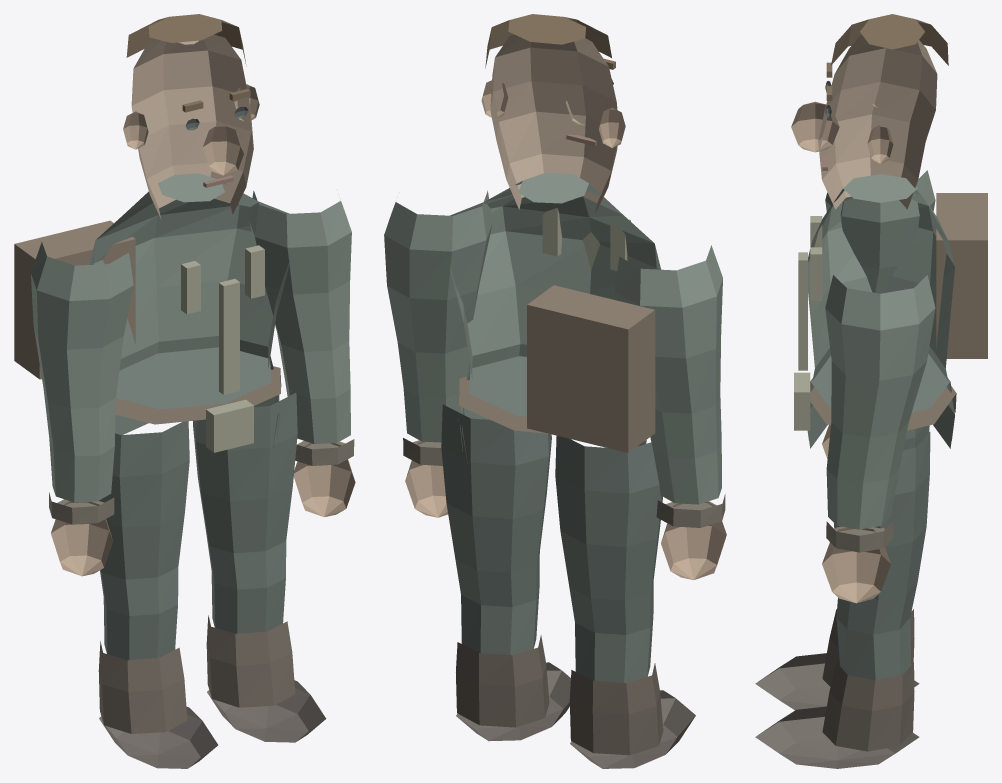
The model's file is worker_1000_2.glb.
The picture shows the model from 3 angles, left to right: view 1: azimuth 30°, elevation 25°; view 2: azimuth 150°, elevation 25°; view 3: azimuth 270°, elevation 25°; orthographic projection. The views are drawn at different scales.
Parts seen in each view (by area): view 1: body_0, leftArm_0, rightLeg_0, rightArm_0, leftLeg_0, head_0, body_1, leftLeg_1, rightLeg_1, body_7, leftLeg_2, rightLeg_2 (+12 smaller); view 2: leftLeg_0, rightLeg_0, body_7, body_0, rightArm_0, leftArm_0, head_0, leftLeg_1, rightLeg_1, leftArm_2, head_9, body_1 (+9 smaller); view 3: rightArm_0, head_0, rightLeg_0, body_0, body_7, rightLeg_1, leftArm_0, rightLeg_2, rightArm_2, head_9, leftLeg_2, body_1 (+8 smaller).
Part boxes in pixels (box(x1,y1,x2,y2)): body_0: box(89, 173, 289, 439); leftArm_0: box(31, 242, 133, 502); rightLeg_0: box(193, 393, 297, 633); rightArm_0: box(249, 190, 351, 443); leftLeg_0: box(98, 421, 189, 660); head_0: box(131, 34, 253, 219); body_1: box(115, 347, 278, 447); leftLeg_1: box(98, 641, 187, 733); rightLeg_1: box(206, 615, 295, 707); body_7: box(14, 220, 135, 379); leftLeg_2: box(99, 706, 217, 768); rightLeg_2: box(207, 680, 326, 742); leftLeg_0: box(555, 436, 662, 682); rightLeg_0: box(441, 404, 551, 655); body_7: box(527, 285, 655, 452); body_0: box(449, 172, 660, 451); rightArm_0: box(384, 190, 492, 442); leftArm_0: box(614, 245, 722, 504); head_0: box(490, 34, 617, 214); leftLeg_1: box(569, 663, 663, 755); rightLeg_1: box(456, 635, 549, 727); leftArm_2: box(661, 501, 726, 580); head_9: box(485, 14, 611, 68); body_1: box(462, 356, 644, 463); rightArm_0: box(825, 275, 935, 529); head_0: box(818, 35, 937, 209); rightLeg_0: box(834, 432, 930, 680); body_0: box(807, 174, 954, 440); body_7: box(936, 193, 987, 358); rightLeg_1: box(822, 662, 914, 751); leftArm_0: box(825, 170, 935, 293); rightLeg_2: box(755, 706, 919, 768); rightArm_2: box(822, 527, 890, 603); head_9: box(831, 14, 948, 65); leftLeg_2: box(755, 653, 919, 710); body_1: box(808, 353, 954, 448).
Bounding box in the file's own units: 0.774 × 1.66 × 0.498.
